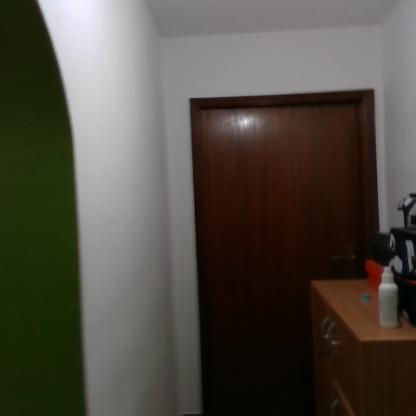closed: (174, 76, 397, 408)
